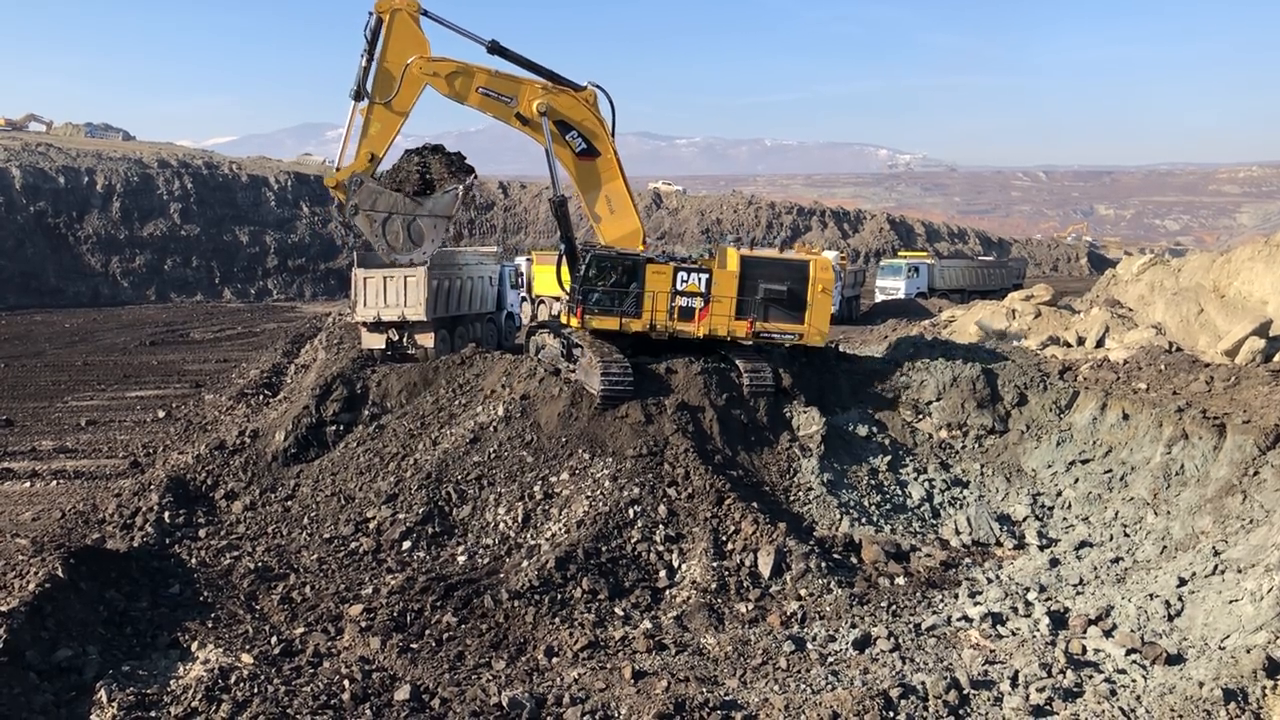full: (333, 148, 487, 269)
